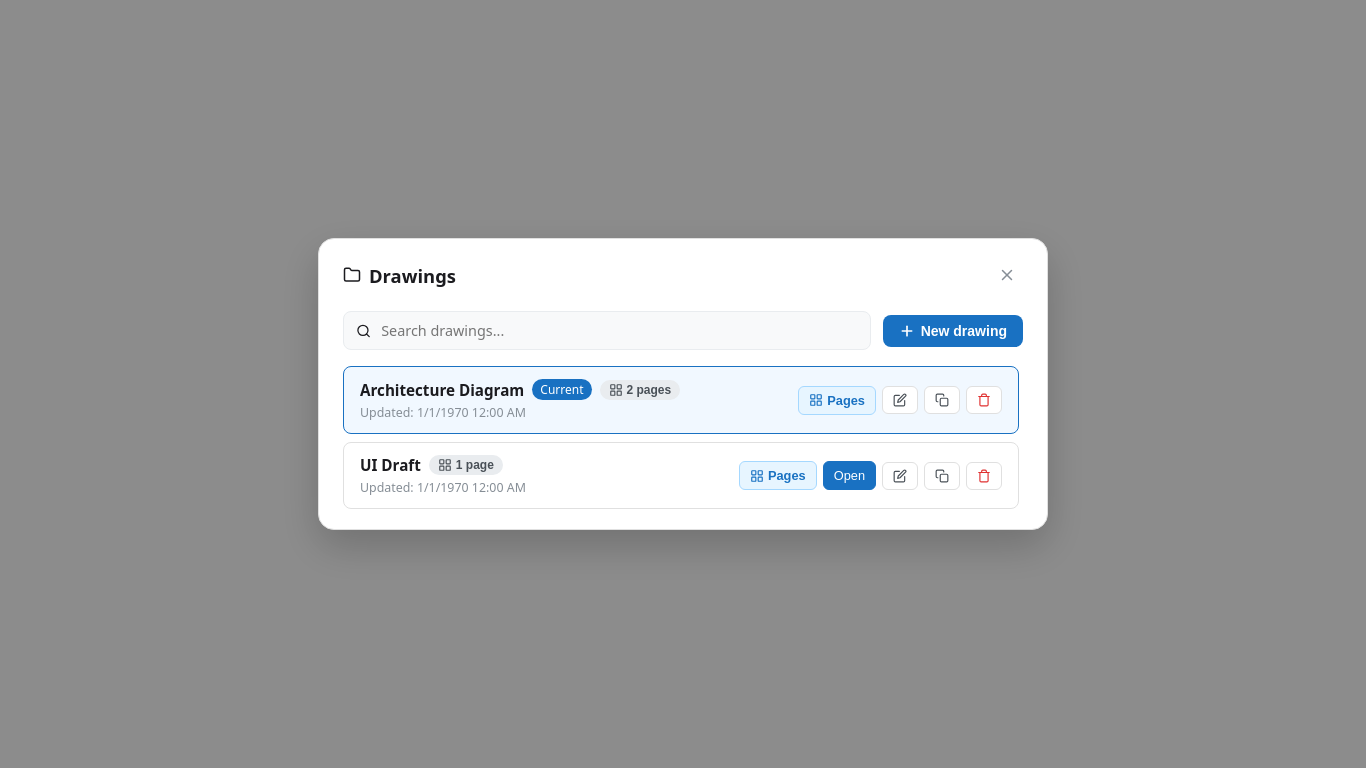
Test: MultiPage UI Components › should return to drawings list when clicking Back button in gallery view
Enter gallery view
Click the button titled "View all pages in grid" in the row of "Current" at coordinates (837, 400), box top-left (798, 386), bottom-right (876, 414)
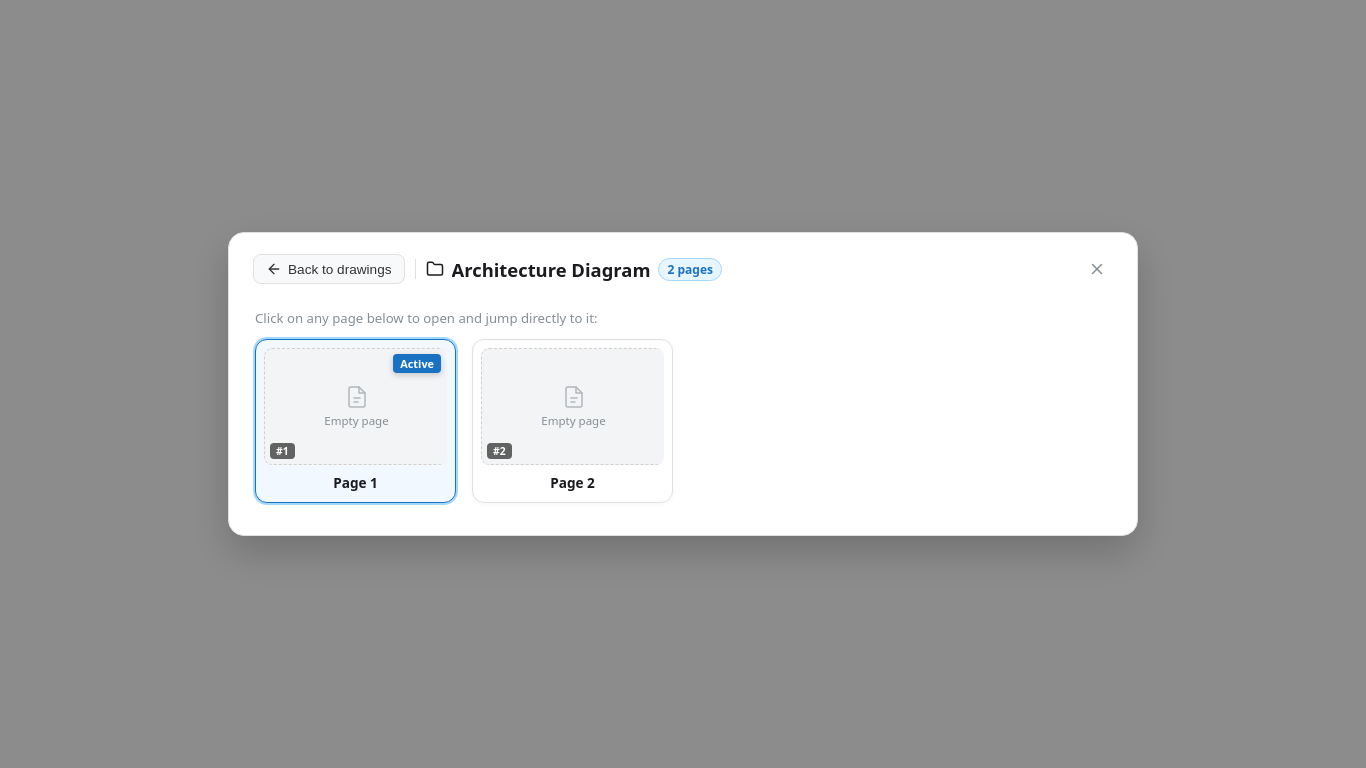
Check: the text "Back to drawings" is shown, box top-left (288, 262), bottom-right (392, 277)
Click Back button
Click the button "Back to drawings" at coordinates (329, 269), box top-left (253, 254), bottom-right (404, 284)
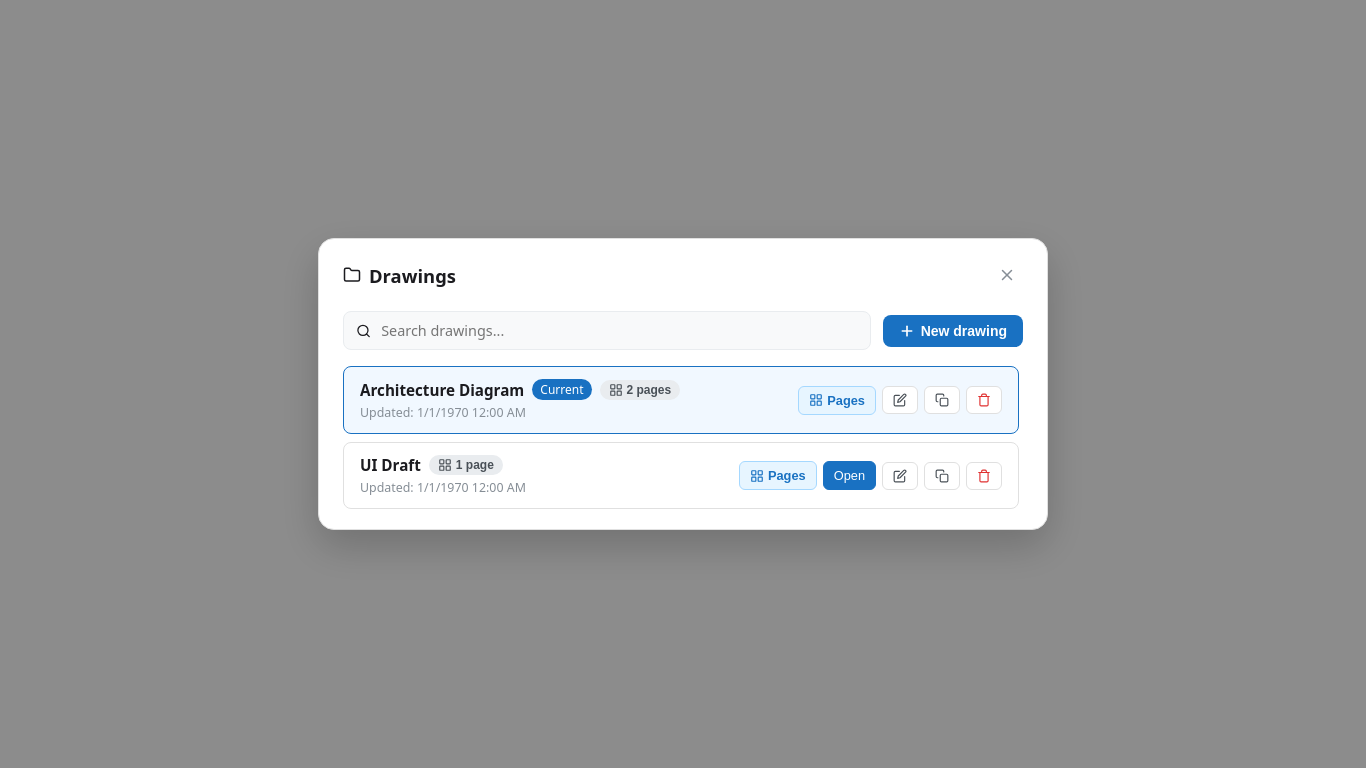
Check: the field with placeholder "Search drawings..." is shown, box top-left (379, 320), bottom-right (858, 341)
